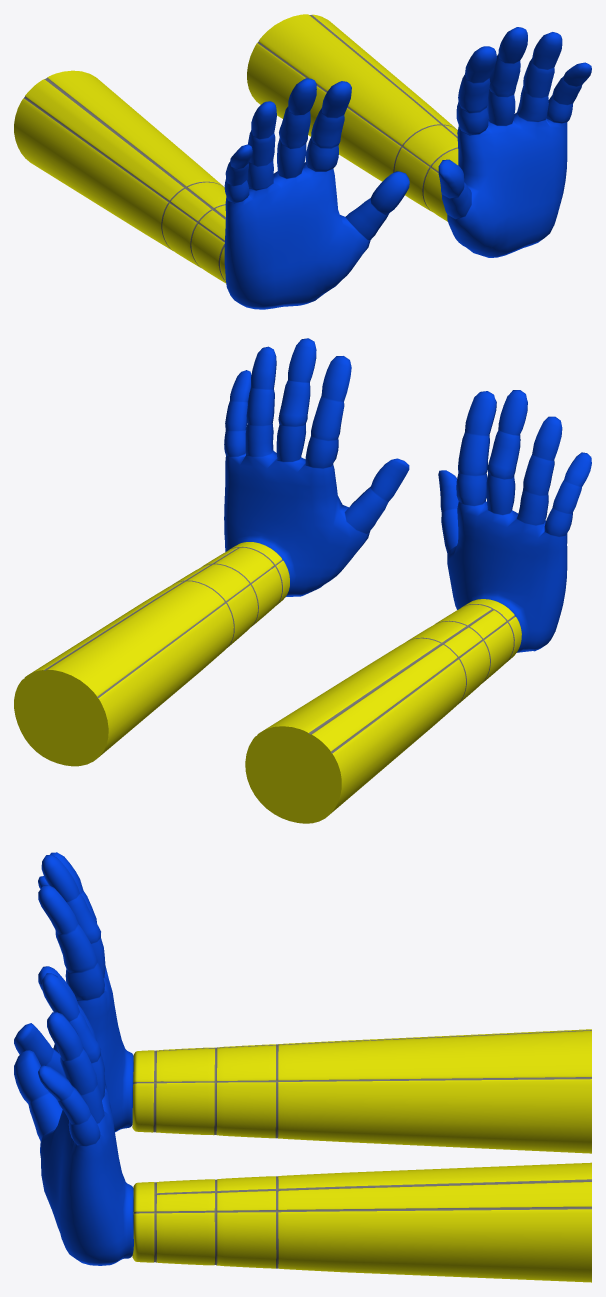
The model's file is hands.fbx.
3 renders of one model, top to bottom at view 1: azimuth 30°, elevation 25°; view 2: azimuth 150°, elevation 25°; view 3: azimuth 270°, elevation 25°, orthographic. The views are drawn at different scales.
Visible parts, largest first — view 1: polySurface5, polySurface1, polySurface6, polySurface2; view 2: polySurface2, polySurface6, polySurface1, polySurface5; view 3: polySurface6, polySurface2, polySurface1, polySurface5.
Part boxes in pixels (<box>): polySurface5: <box>224,78,409,309</box>; polySurface1: <box>438,27,591,257</box>; polySurface6: <box>14,70,226,283</box>; polySurface2: <box>247,14,458,221</box>; polySurface2: <box>14,542,289,766</box>; polySurface6: <box>245,599,521,823</box>; polySurface1: <box>224,338,409,597</box>; polySurface5: <box>438,390,591,652</box>; polySurface6: <box>132,1029,591,1153</box>; polySurface2: <box>132,1162,591,1282</box>; polySurface1: <box>14,966,133,1265</box>; polySurface5: <box>14,852,133,1132</box>.
Bounding box in the file's own units: 30.1 × 20.74 × 36.66.
